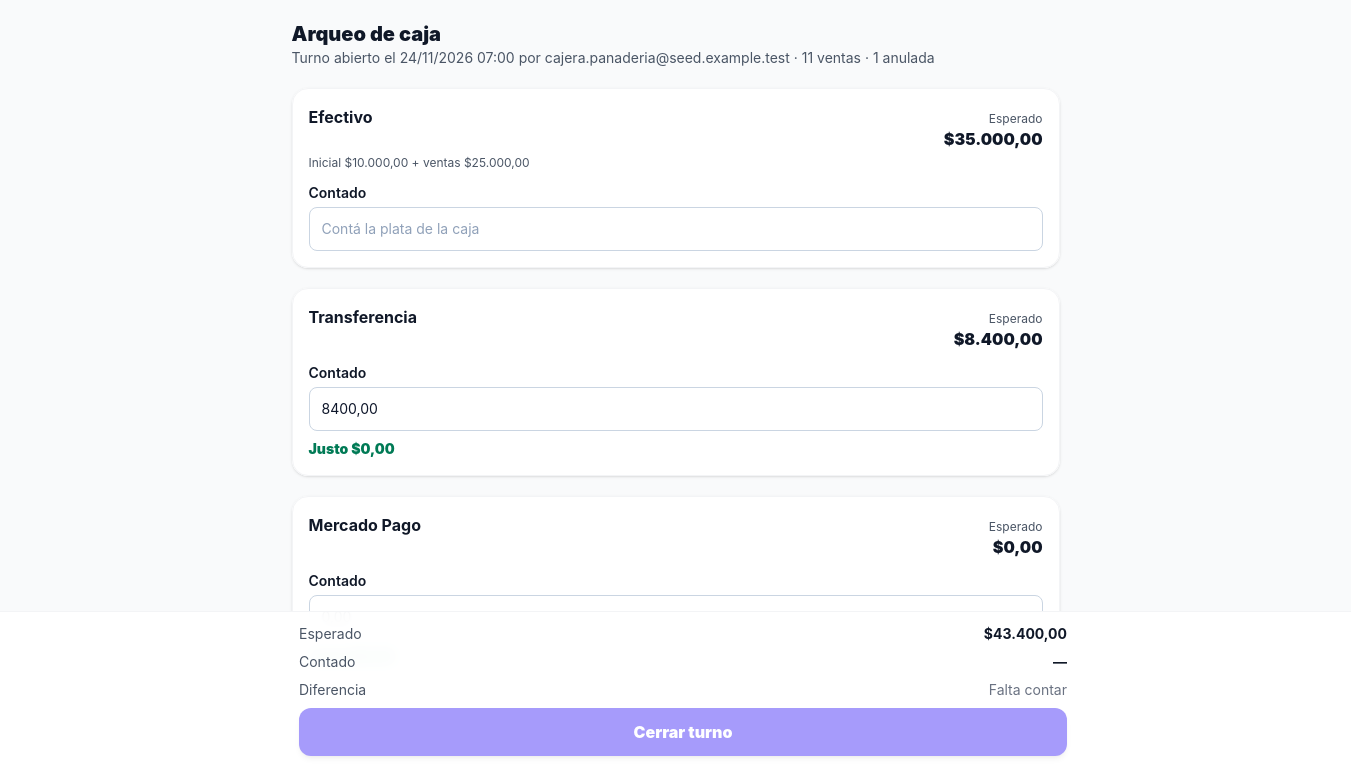
Test: Cierre de caja (/ventas/turnos/:id/cerrar) › Escenario "Arqueo con diferencia": contando $34.500 en efectivo, la diferencia es −$500 y se resalta como faltante
Check: the text "$35.000,00" is shown, box [944, 129, 1042, 149]
Check: the field named "Contado por transferencia" holds "8400,00", box [308, 387, 1042, 431]
Step 1. Type "34.500" into the field named "Contado en efectivo" → (676, 229), box [308, 207, 1042, 251]
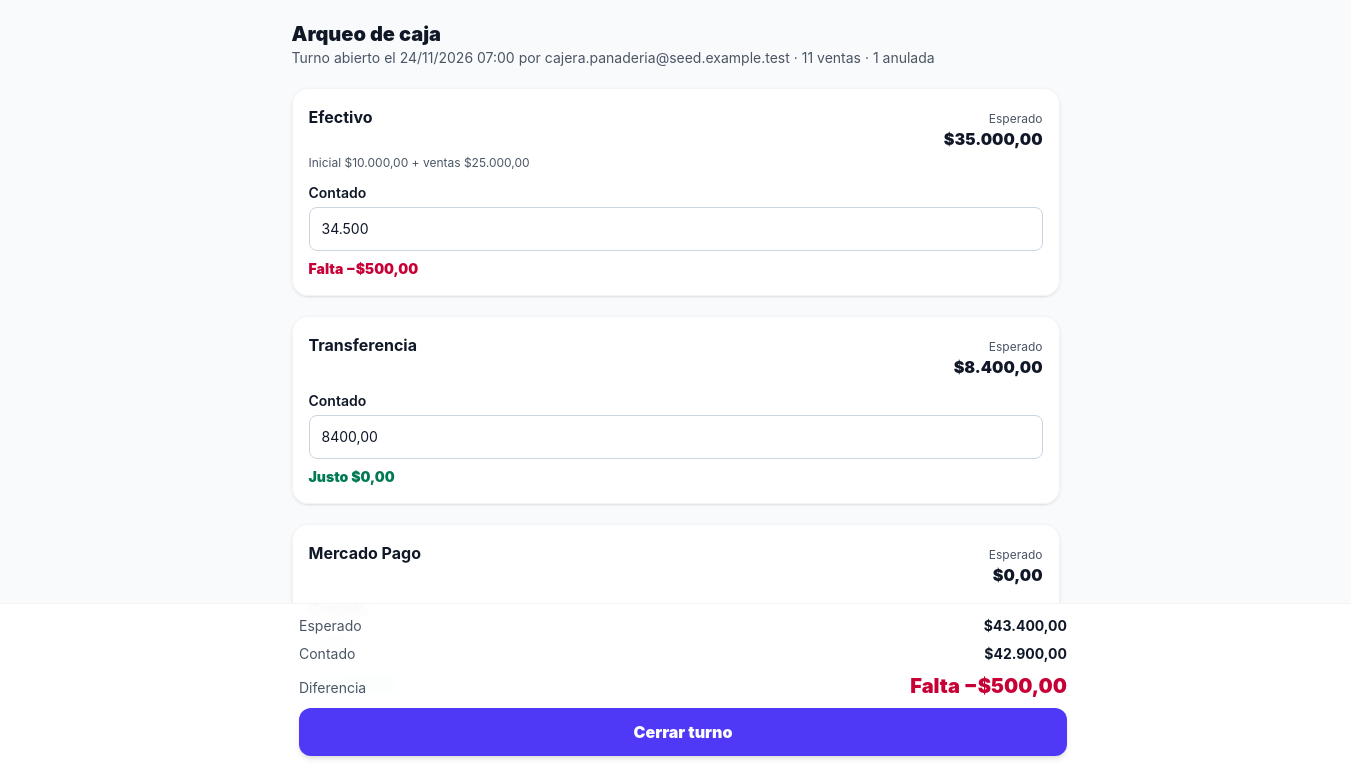
Check: the text with test id "difference" below "Inicial" reads "Falta −$500,00", box [308, 260, 418, 277]
Check: the text with test id "total-difference" reads "Falta −$500,00", box [910, 672, 1067, 700]
Check: the button "Cerrar turno" is enabled, box [299, 708, 1067, 756]
